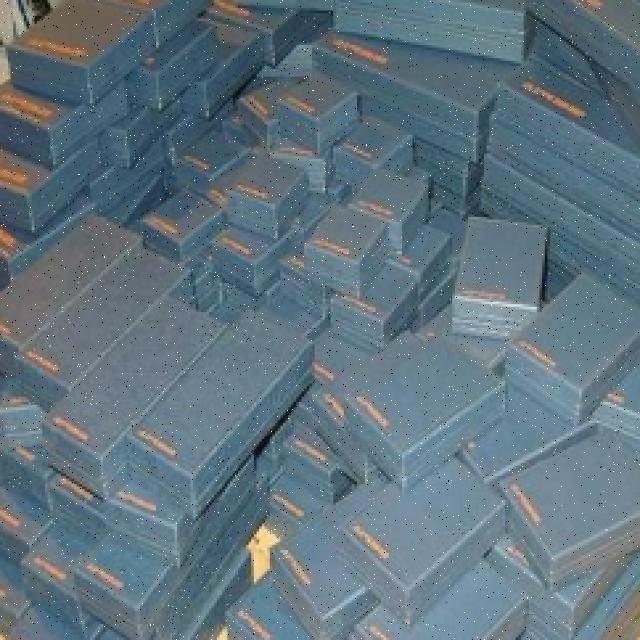box: (128, 309, 331, 488), (468, 109, 640, 288), (48, 303, 238, 457), (288, 13, 518, 119), (334, 474, 518, 606), (350, 344, 510, 480), (35, 244, 184, 386), (505, 442, 640, 582), (3, 212, 142, 341), (352, 563, 540, 640), (518, 298, 640, 416), (20, 0, 148, 104), (508, 72, 640, 170), (548, 0, 640, 116), (450, 216, 542, 330), (0, 92, 122, 154), (137, 19, 208, 125), (328, 0, 526, 37), (85, 132, 169, 212), (300, 210, 390, 284), (334, 268, 416, 348), (145, 186, 228, 262), (0, 143, 95, 209), (182, 23, 250, 112), (362, 170, 427, 236), (282, 79, 346, 145), (228, 162, 302, 218), (90, 0, 204, 32), (344, 129, 402, 179), (243, 87, 290, 140), (116, 100, 162, 150), (190, 133, 238, 179), (392, 228, 439, 274)
